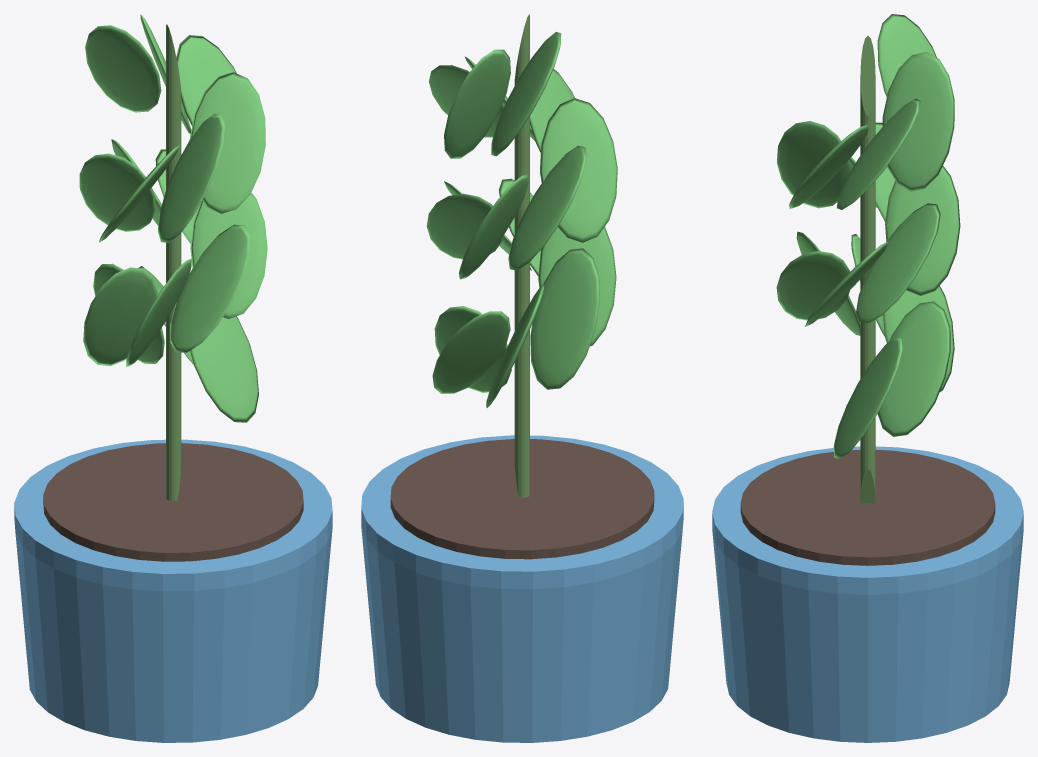
The picture shows the model from 3 angles, left to right: view 1: azimuth 30°, elevation 25°; view 2: azimuth 150°, elevation 25°; view 3: azimuth 270°, elevation 25°; orthographic projection. The views are drawn at different scales.
Visible parts, largest first — view 1: Pot_Complete, Leaves, Soil, Stem; view 2: Pot_Complete, Leaves, Soil, Stem; view 3: Pot_Complete, Leaves, Soil, Stem.
Part boxes in pixels (left/top/right/bottom): Pot_Complete: left=14, top=439, right=332, bottom=742; Leaves: left=79, top=14, right=267, bottom=422; Soil: left=43, top=443, right=303, bottom=561; Stem: left=166, top=24, right=181, bottom=501; Pot_Complete: left=361, top=435, right=683, bottom=742; Leaves: left=426, top=32, right=617, bottom=407; Soil: left=390, top=439, right=654, bottom=559; Stem: left=514, top=14, right=529, bottom=497; Pot_Complete: left=712, top=446, right=1023, bottom=742; Leaves: left=776, top=14, right=960, bottom=458; Soil: left=740, top=450, right=995, bottom=565; Stem: left=860, top=36, right=875, bottom=503.
Size of the model in its own units: 0.33 by 0.7538 by 0.33.
